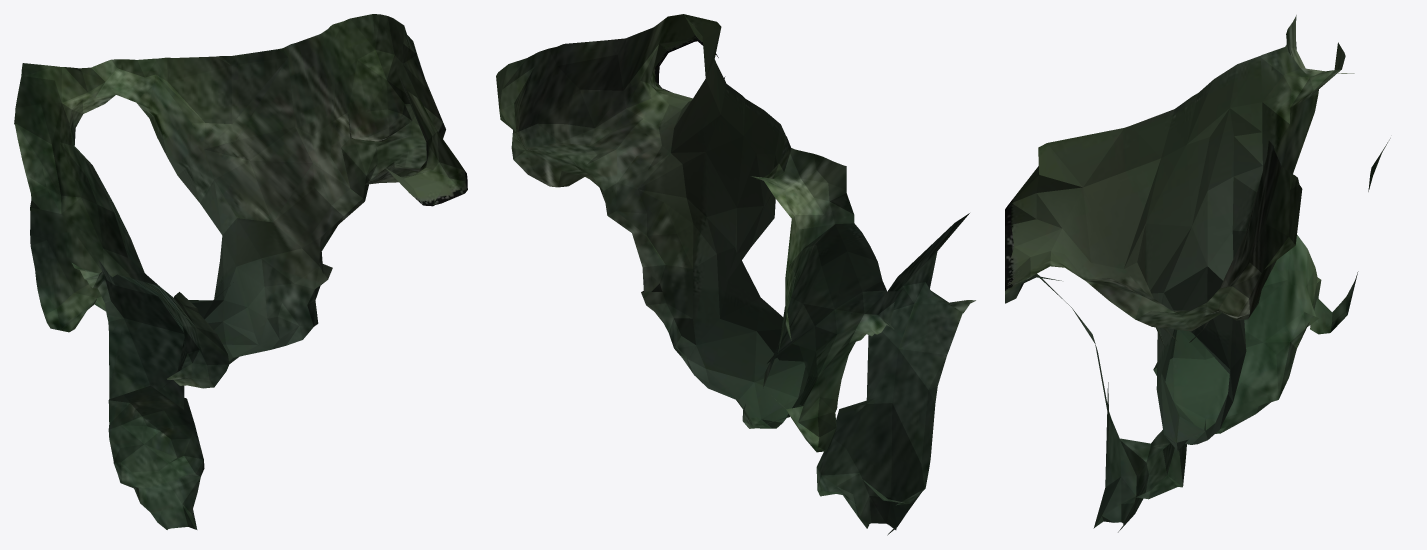
The picture shows the model from 3 angles, left to right: view 1: azimuth 30°, elevation 25°; view 2: azimuth 150°, elevation 25°; view 3: azimuth 270°, elevation 25°; orthographic projection. The views are drawn at different scales.
Bounding box in the file's own units: 5.29 × 5.9 × 4.47.
4 materials, 4 textured.
